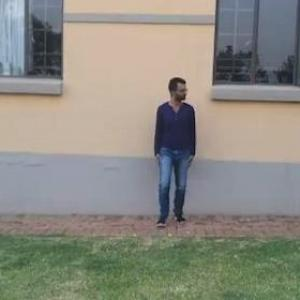follow: (153, 75, 197, 223)
